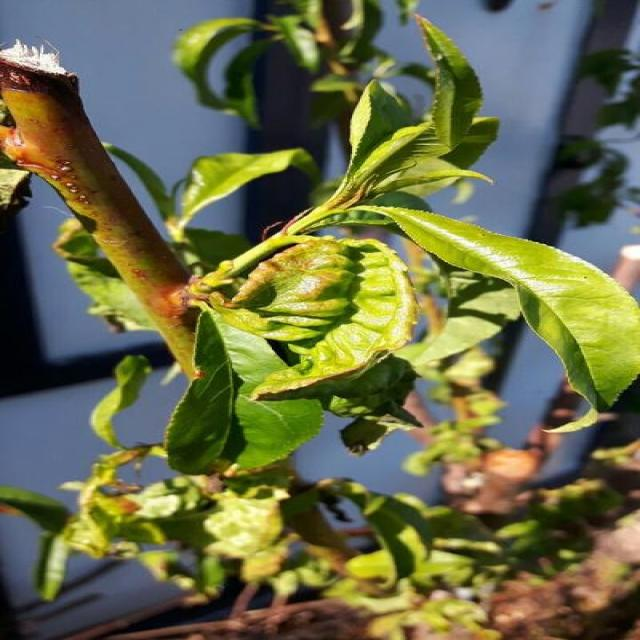peach_leaf_curl: (66, 194, 492, 458)
